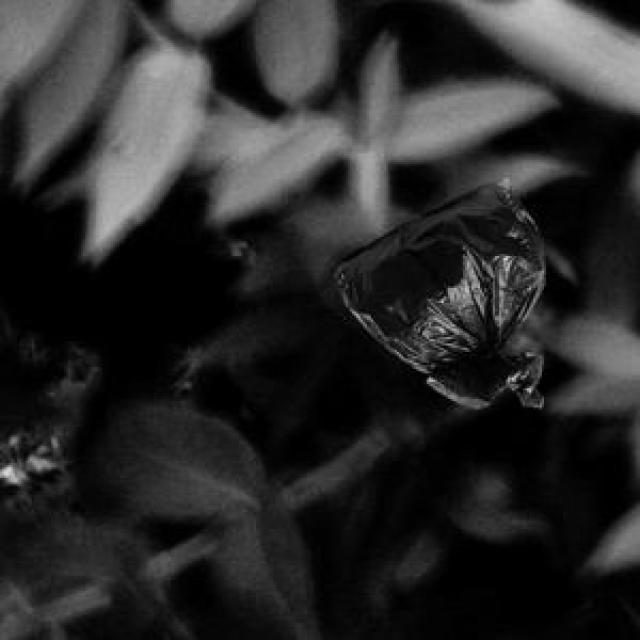miscellaneous trash: (329, 175, 540, 405)
